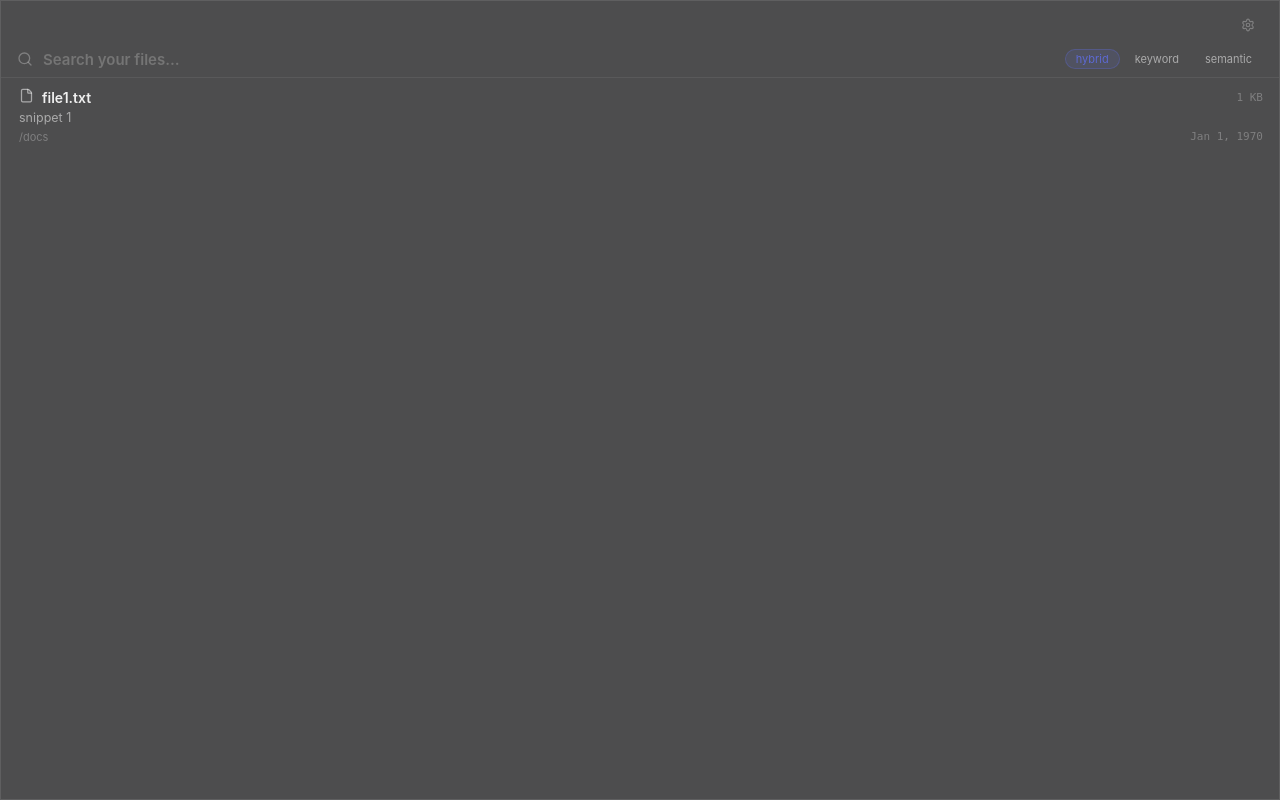
FramelessOverlay › opens and closes full preview modal with Space and Escape
This screenshot has width=1280, height=800.
Click the element with test id "result-tile". click: (67, 97)
box: [1, 78, 1279, 154]
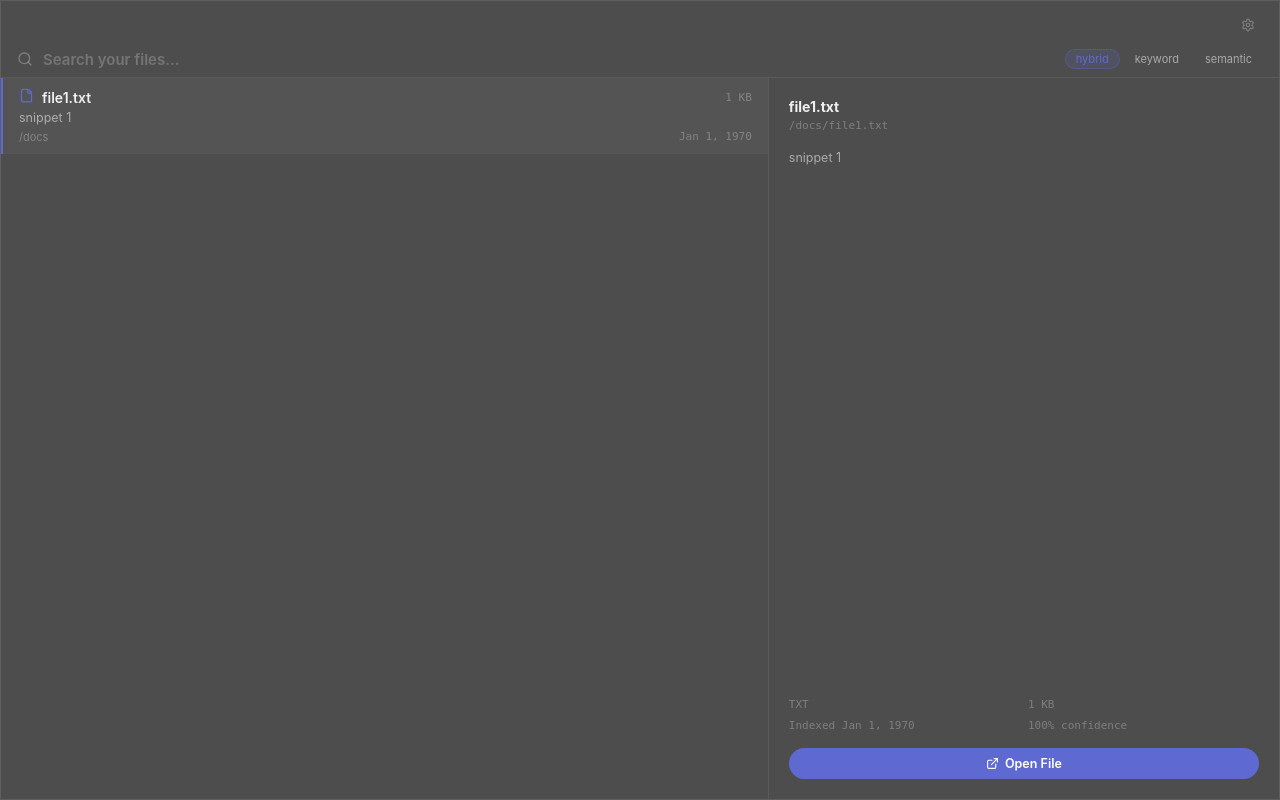
Type keys " "
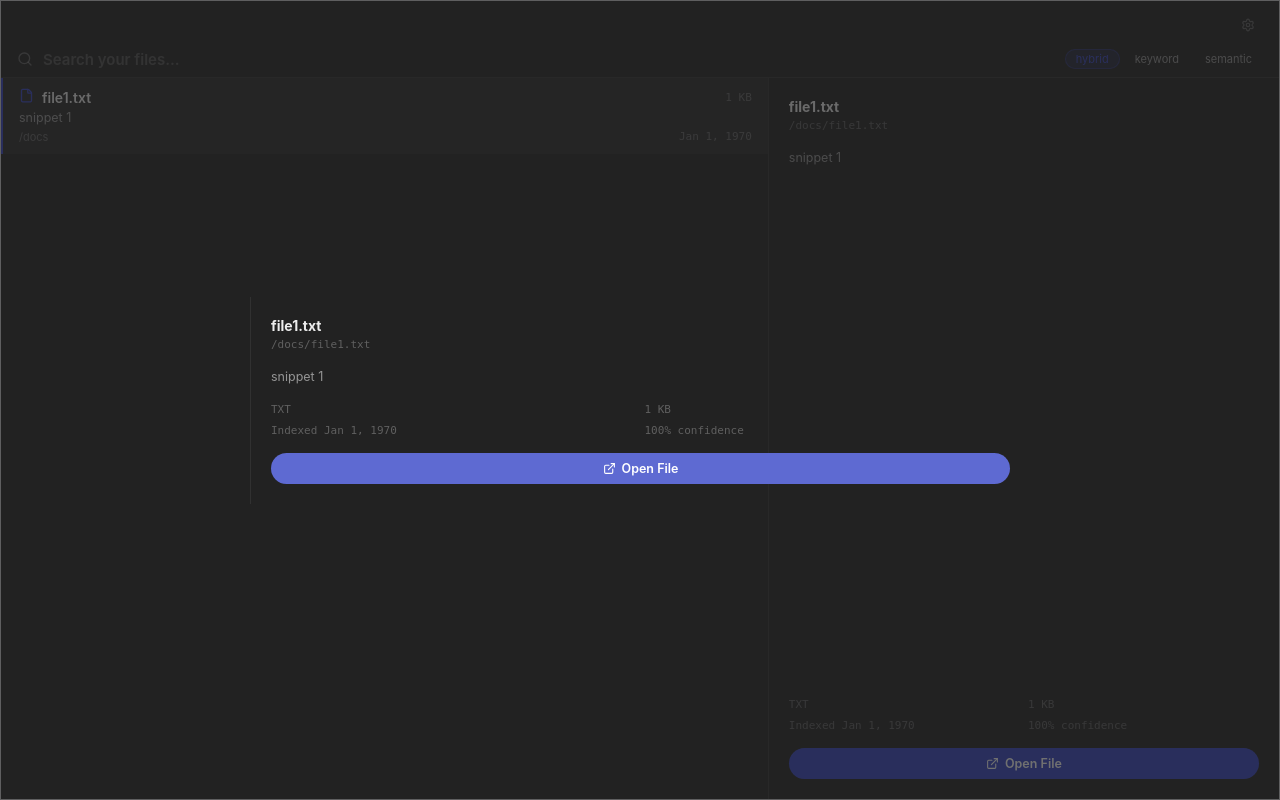
Check: the dialog with test id "preview-modal" is shown
Press Escape
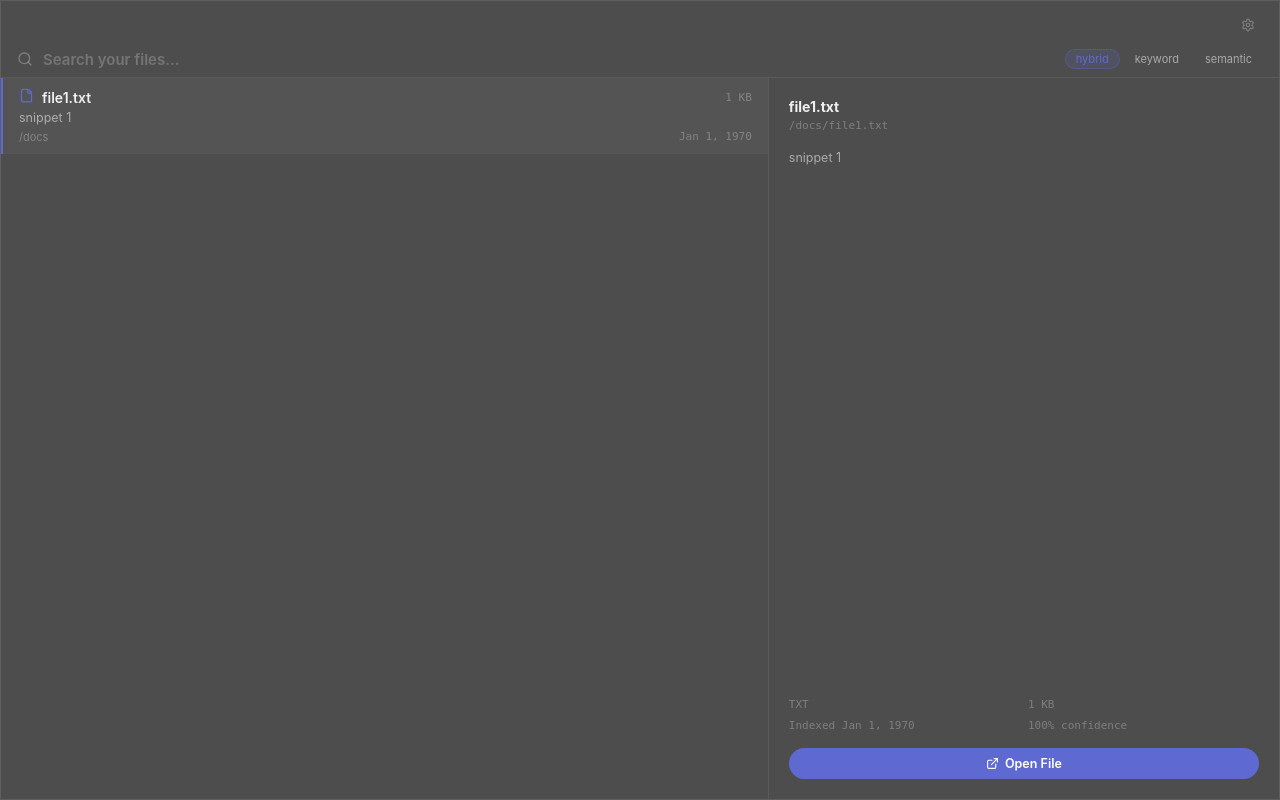
Check: the dialog with test id "preview-modal" is gone
